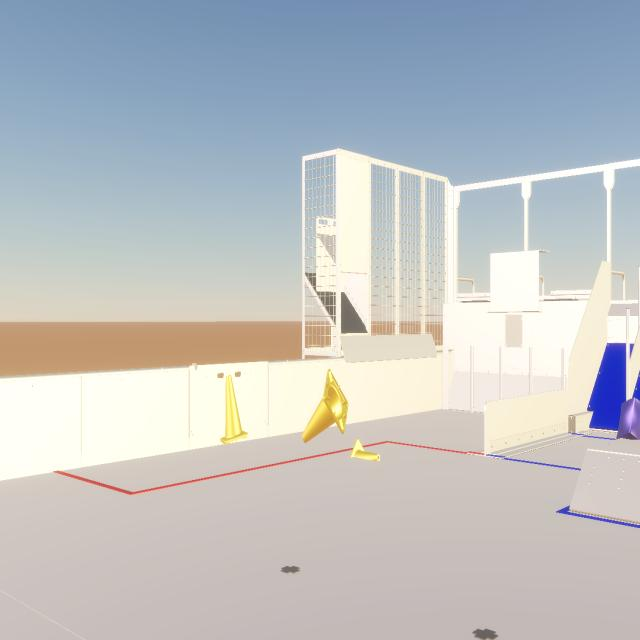frc_cone: (302, 369, 348, 443), (220, 375, 248, 445), (350, 439, 380, 461)
frc_cube: (616, 398, 640, 440)
